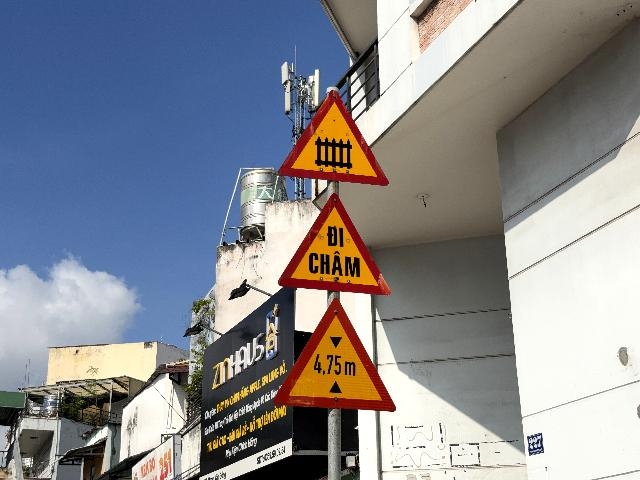chieu-cao-tinh-khong-thuc-te: (273, 296, 396, 412)
di-cham: (277, 193, 392, 295)
noi-giao-nhau-voi-duong-sat-co-rao-chan: (278, 88, 390, 187)
